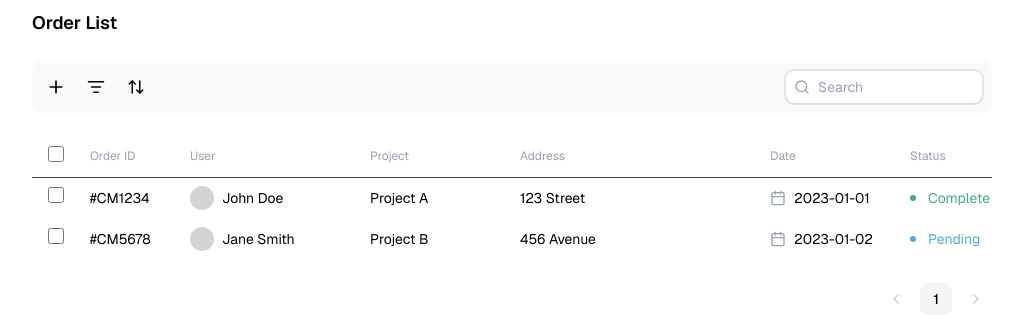
Test case: OrdersList Page › filters orders by status
Click the button named "filter status".
click(96, 87)  # box [80,71,112,103]
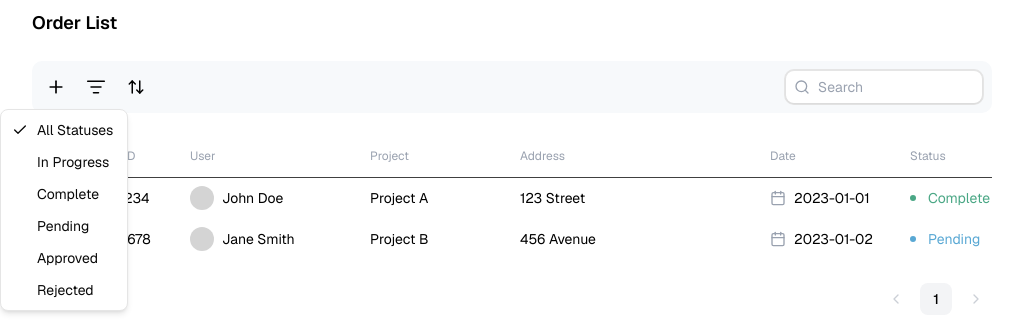
Click the menu item "Pending".
click(63, 226)  # box [37,217,89,235]
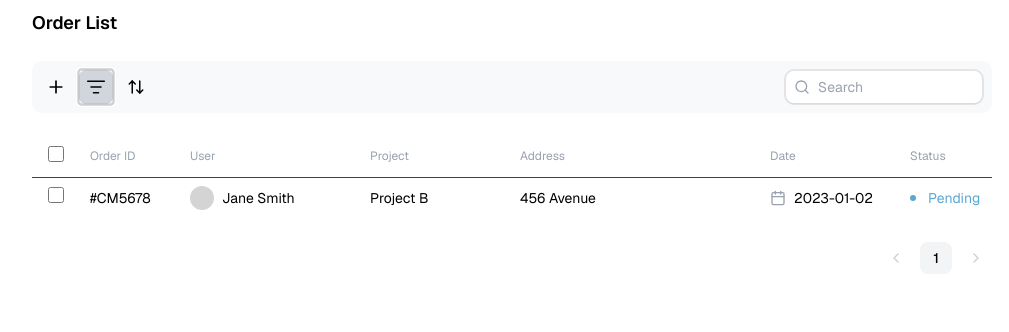
expect the text "Jane Smith" is shown: met, box [222,188,295,208]
expect the text "John Doe" is gone: met
